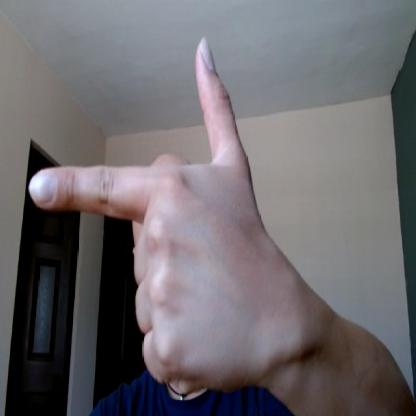G: (27, 33, 264, 392)
